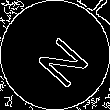N_NW: (23, 23, 87, 87)
